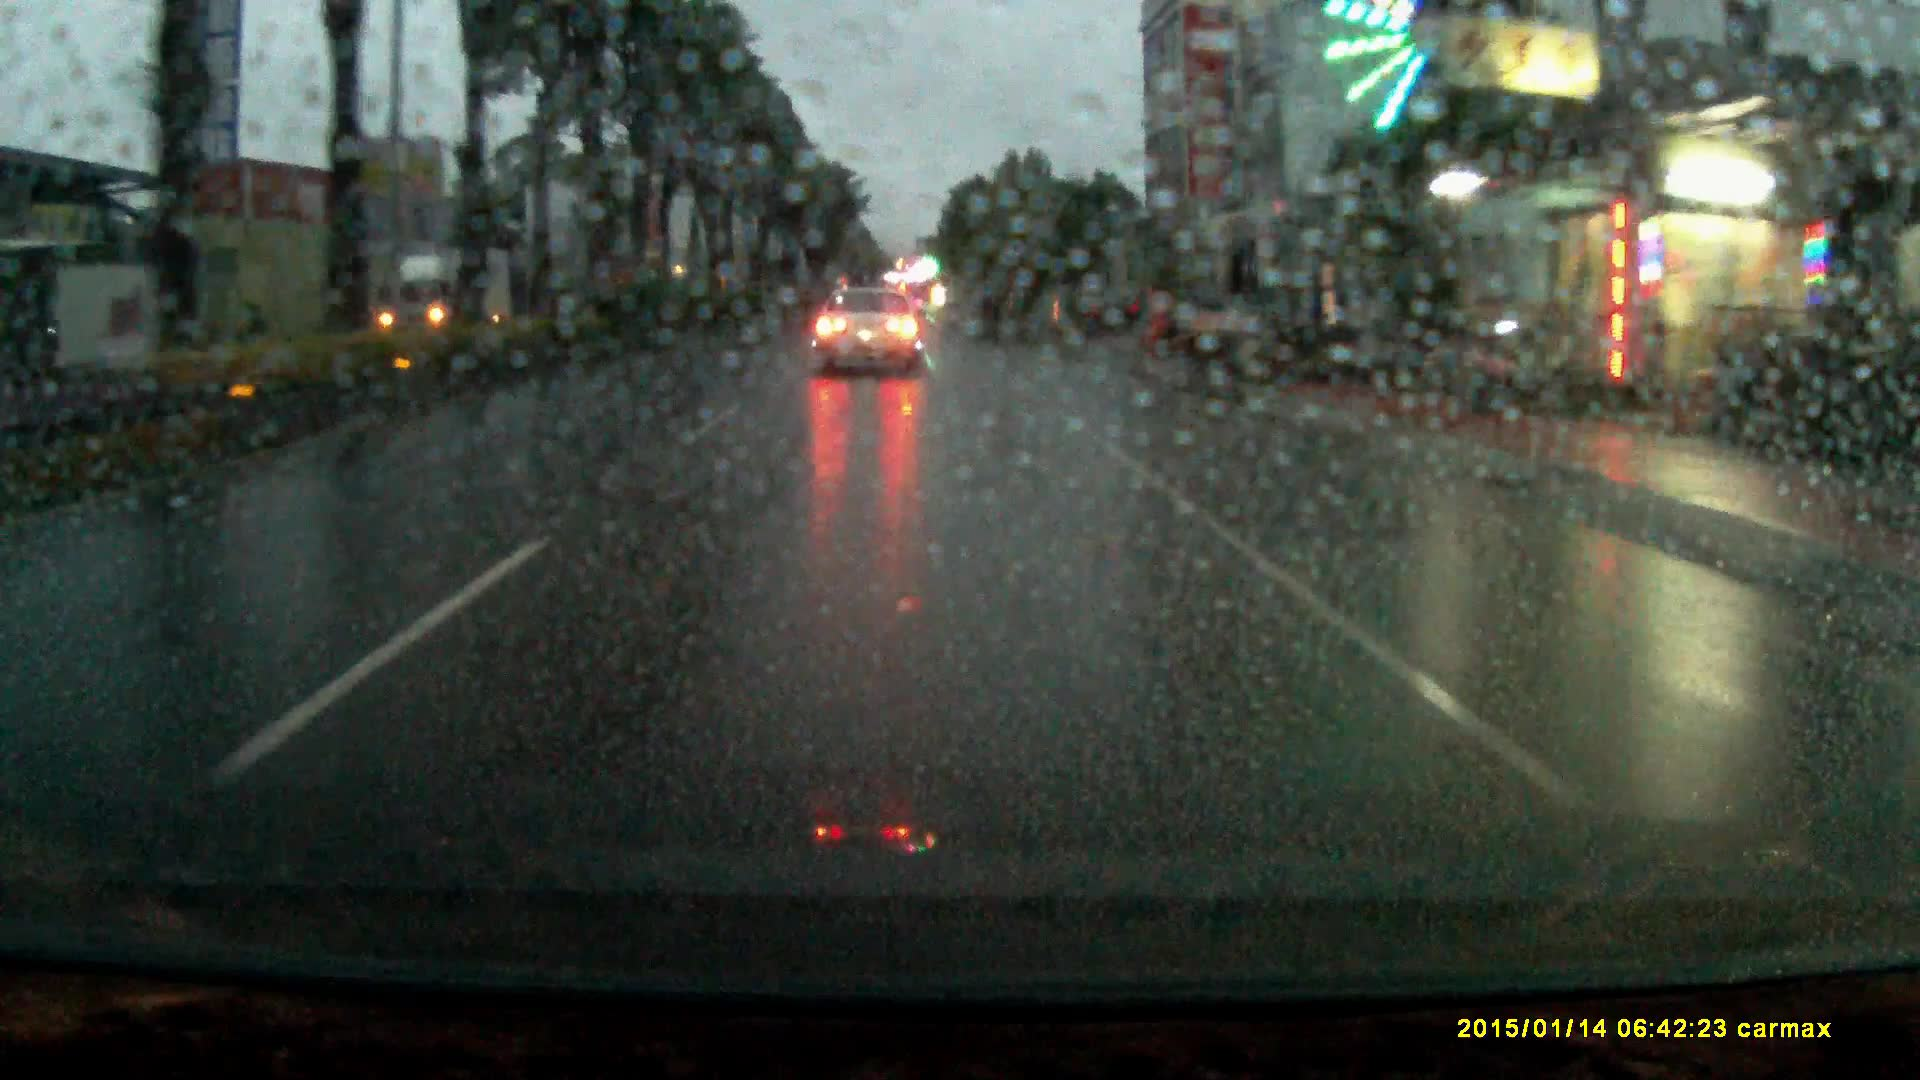vehicle: (814, 291, 919, 386), (388, 249, 512, 328), (1062, 291, 1138, 342)
